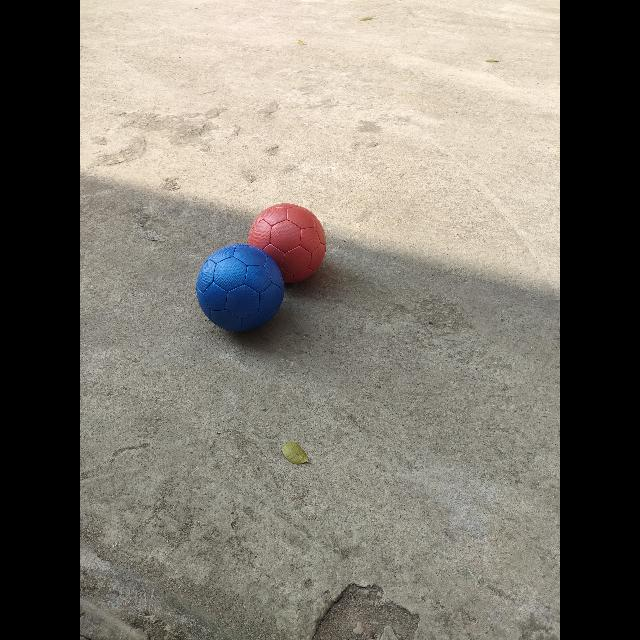B: (195, 244, 286, 335)
R: (247, 204, 328, 287)
